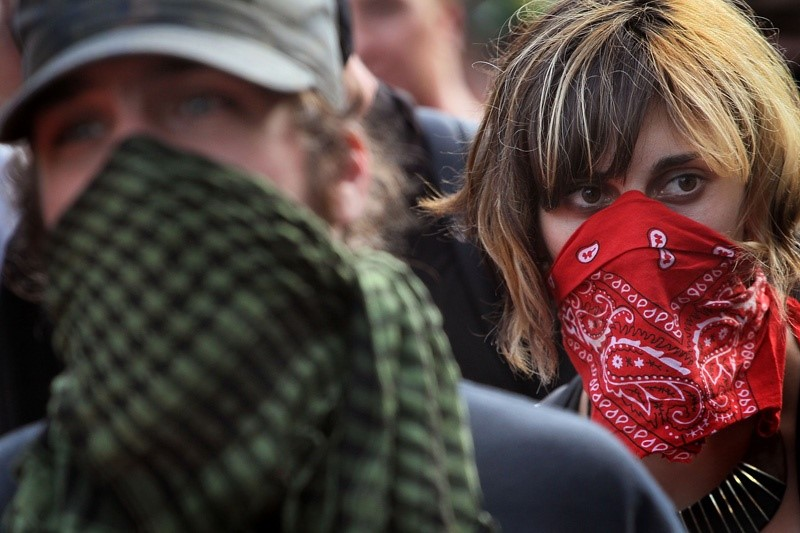face_with_mask: (12, 15, 352, 349), (525, 30, 765, 363)
